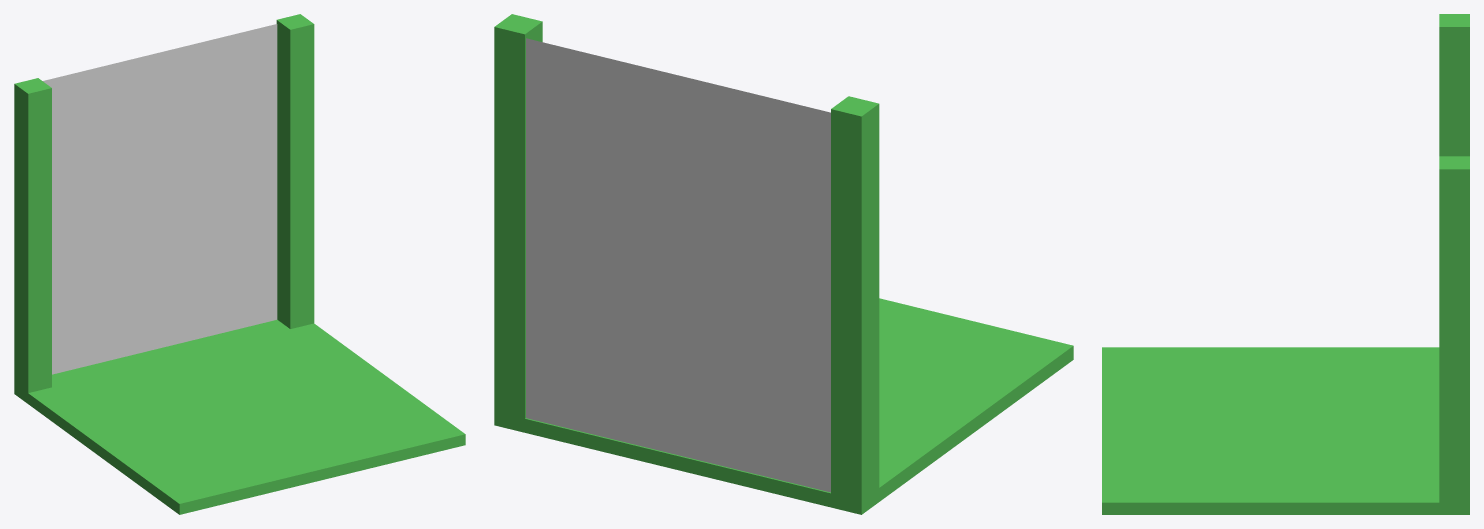
Rendered from Wall.fbx.
The picture shows the model from 3 angles, left to right: view 1: azimuth 30°, elevation 25°; view 2: azimuth 150°, elevation 25°; view 3: azimuth 270°, elevation 25°; orthographic projection. The views are drawn at different scales.
Visible parts, largest first — view 1: Wall; view 2: Wall; view 3: Wall.
Part boxes in pixels (left/top/right/bottom): Wall: left=14, top=14, right=465, bottom=514; Wall: left=494, top=14, right=1073, bottom=514; Wall: left=1102, top=14, right=1469, bottom=514.
Bounding box in the file's own units: 200 × 207 × 200.
